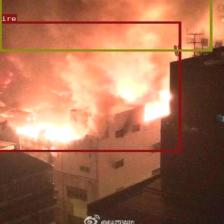fire: (0, 21, 181, 152)
smoke: (0, 0, 212, 51)
